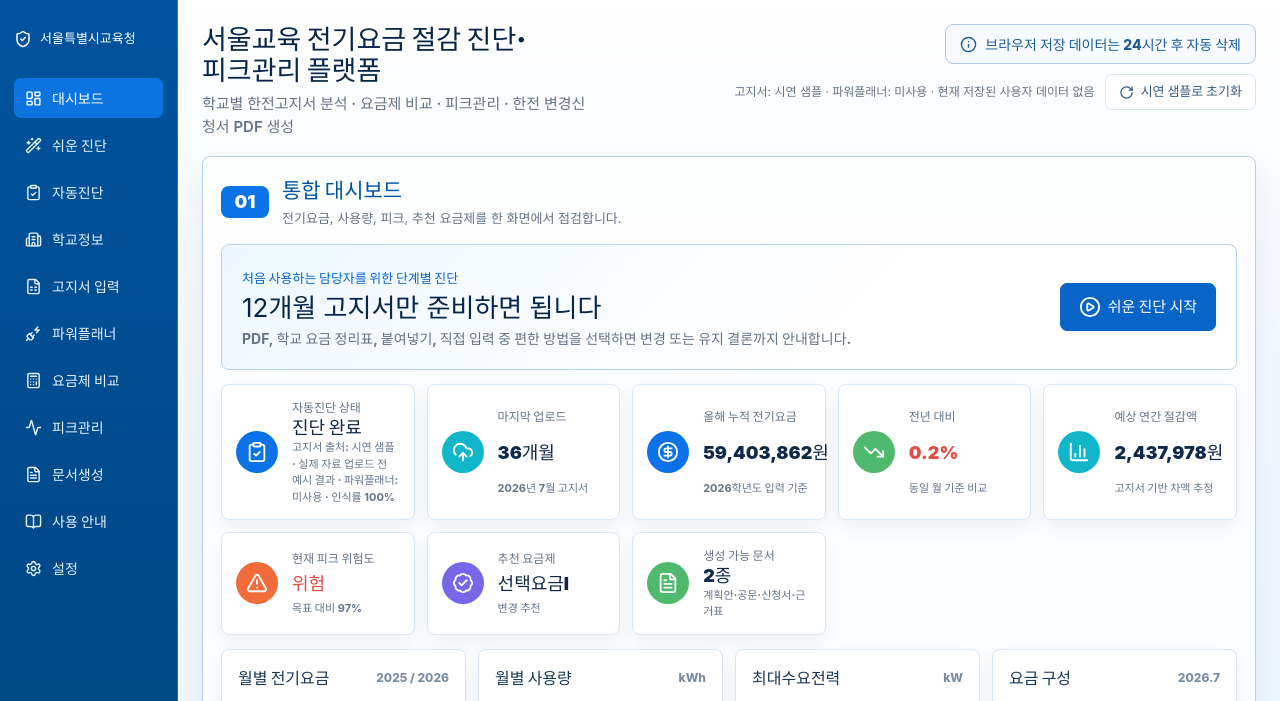
Test: data provenance persistence › opens the usage guide from the sidebar
Click the button "사용 안내".
click(88, 521)  # box left=14, top=501, right=163, bottom=541
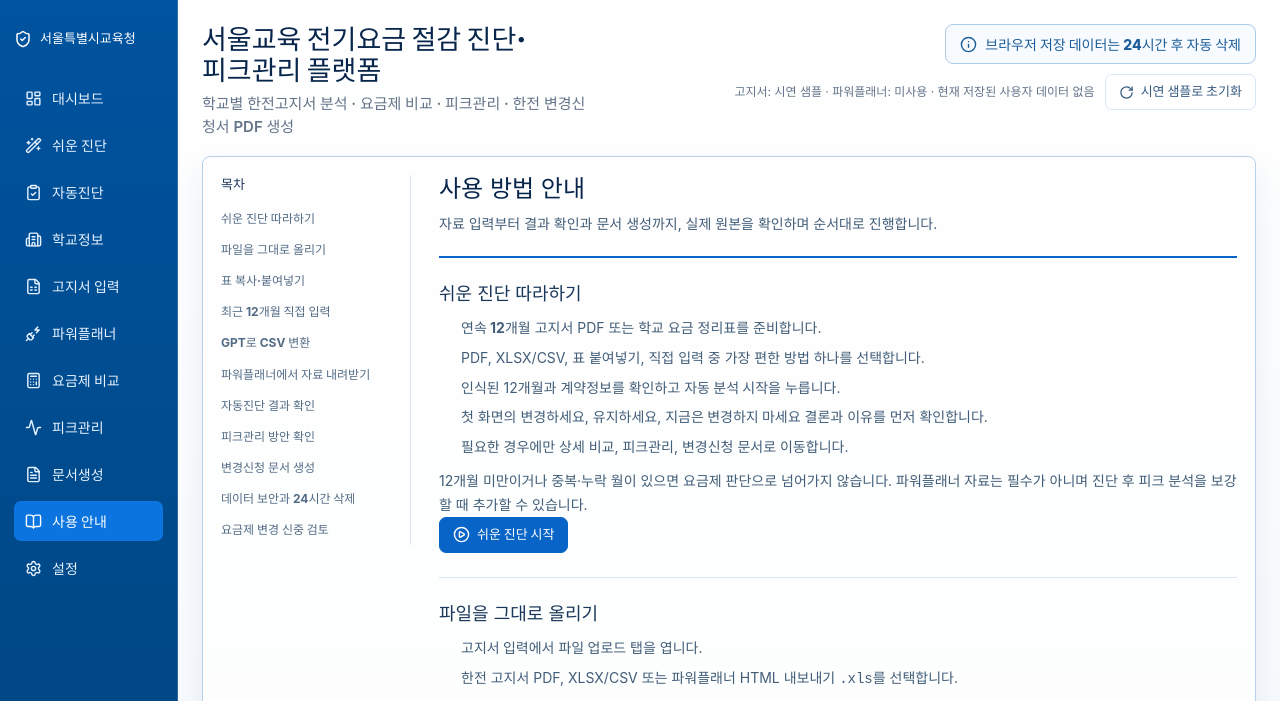
expect the heading "파일을 그대로 올리기" is shown: met, box left=439, top=603, right=598, bottom=624
